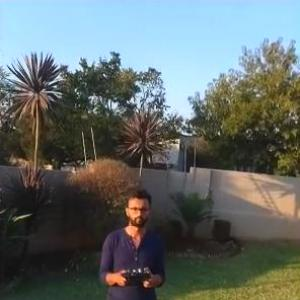follow: (98, 186, 168, 299)
